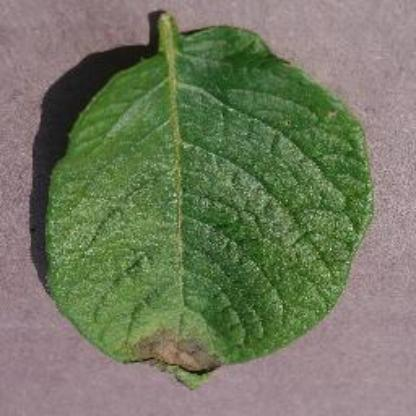Late-Blight: (44, 12, 392, 390)
